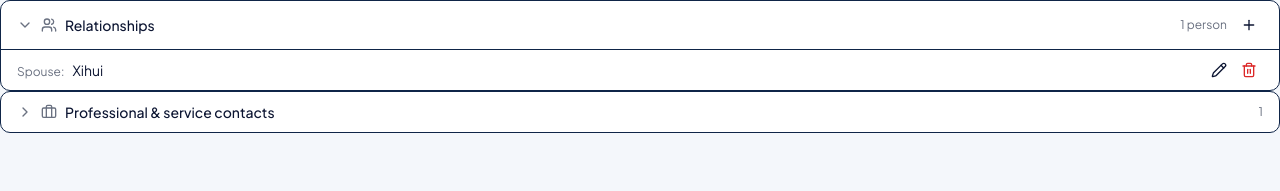
Test: relationship role separation › reveals professional contacts only after expanding their own section
This screenshot has width=1280, height=191.
Click the button named "Expand section".
click(25, 112)  # box [17,104,33,120]
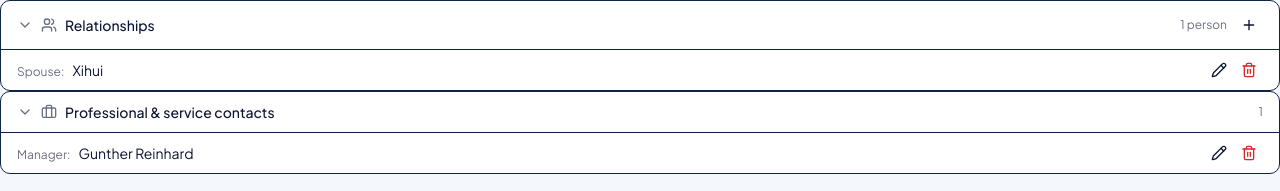
Now the link "Gunther Reinhard" is shown, box [78,143,194,163]
